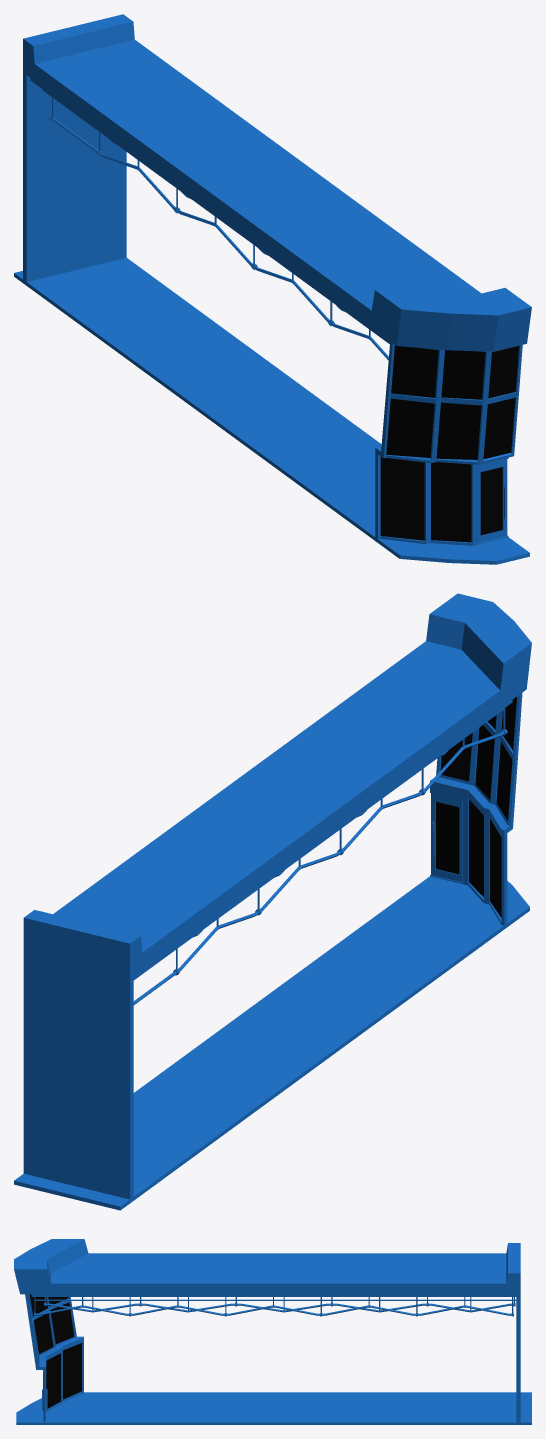
Rendered from SM_entrance.fbx.
3 renders of one model, top to bottom at view 1: azimuth 30°, elevation 25°; view 2: azimuth 150°, elevation 25°; view 3: azimuth 270°, elevation 25°, orthographic. The views are drawn at different scales.
Parts seen in each view (by area): view 1: Cylinder_7, Boole_5; view 2: Cylinder_7, Boole_5; view 3: Cylinder_7.
Part boxes in pixels (x1,y1,x2,y2): Cylinder_7: (14,14,531,564); Boole_5: (477,459,507,542); Cylinder_7: (14,593,531,1210); Boole_5: (431,793,462,882); Cylinder_7: (14,1239,531,1424).
Bounding box in the file's own units: 300 × 718 × 2167.
